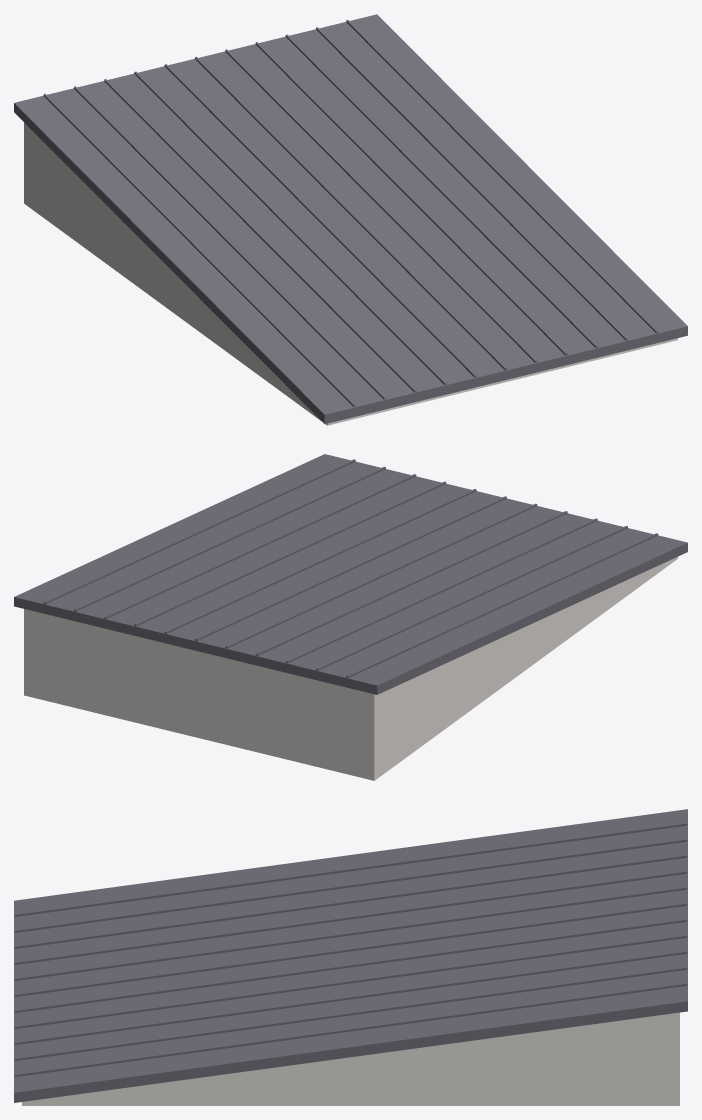
Rendered from SM_Roof_NarrowShedFront_White_546_01.gltf.
The picture shows the model from 3 angles, top to bottom: view 1: azimuth 30°, elevation 25°; view 2: azimuth 150°, elevation 25°; view 3: azimuth 270°, elevation 25°; orthographic projection. The views are drawn at different scales.
Parts seen in each view (by area): view 1: SM_Roof_NarrowShedFront_White_546_01; view 2: SM_Roof_NarrowShedFront_White_546_01; view 3: SM_Roof_NarrowShedFront_White_546_01.
Boxes of the visible parts, x1,y1,x2,y2 form: SM_Roof_NarrowShedFront_White_546_01: (14, 14, 687, 425); SM_Roof_NarrowShedFront_White_546_01: (14, 454, 687, 780); SM_Roof_NarrowShedFront_White_546_01: (14, 809, 687, 1105).
Size of the model in its own units: 5.66 by 1.51 by 8.39.
1 material, 1 textured.
